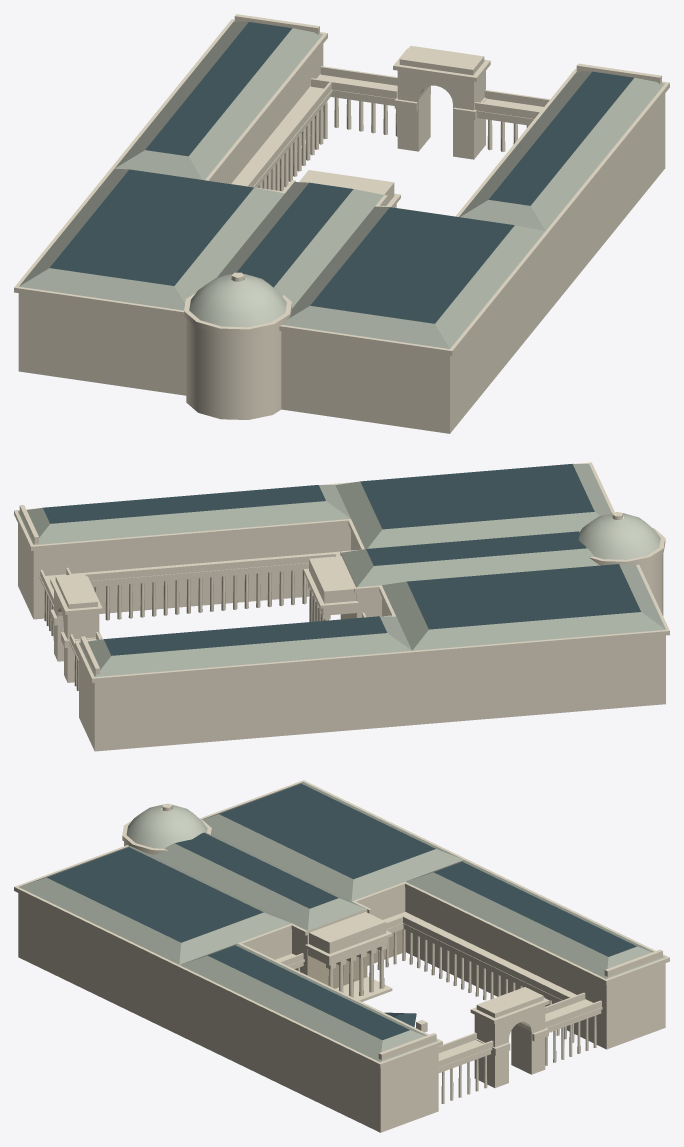
Rendered from legion-of-honor-far.glb.
The picture shows the model from 3 angles, top to bottom: view 1: azimuth 30°, elevation 25°; view 2: azimuth 150°, elevation 25°; view 3: azimuth 270°, elevation 25°; orthographic projection. The views are drawn at different scales.
Visible parts, largest first — view 1: legion-of-honor-0-stone, legion-of-honor-0-glass, legion-of-honor-0-roof, legion-of-honor-0-dome; view 2: legion-of-honor-0-stone, legion-of-honor-0-glass, legion-of-honor-0-roof, legion-of-honor-0-dome; view 3: legion-of-honor-0-stone, legion-of-honor-0-glass, legion-of-honor-0-roof, legion-of-honor-0-dome, legion-of-honor-0-glow.
Boxes of the visible parts, x1,y1,x2,y2 form: legion-of-honor-0-stone: [14, 14, 669, 433]; legion-of-honor-0-glass: [50, 22, 633, 323]; legion-of-honor-0-roof: [19, 21, 664, 348]; legion-of-honor-0-dome: [189, 274, 286, 327]; legion-of-honor-0-stone: [14, 462, 669, 751]; legion-of-honor-0-glass: [43, 464, 640, 655]; legion-of-honor-0-roof: [18, 463, 665, 676]; legion-of-honor-0-dome: [578, 513, 660, 559]; legion-of-honor-0-stone: [14, 780, 669, 1132]; legion-of-honor-0-glass: [47, 784, 636, 1040]; legion-of-honor-0-roof: [19, 782, 665, 1062]; legion-of-honor-0-dome: [126, 804, 207, 848]; legion-of-honor-0-glow: [308, 929, 405, 988].
Size of the model in its own units: 107 by 18 by 105.
